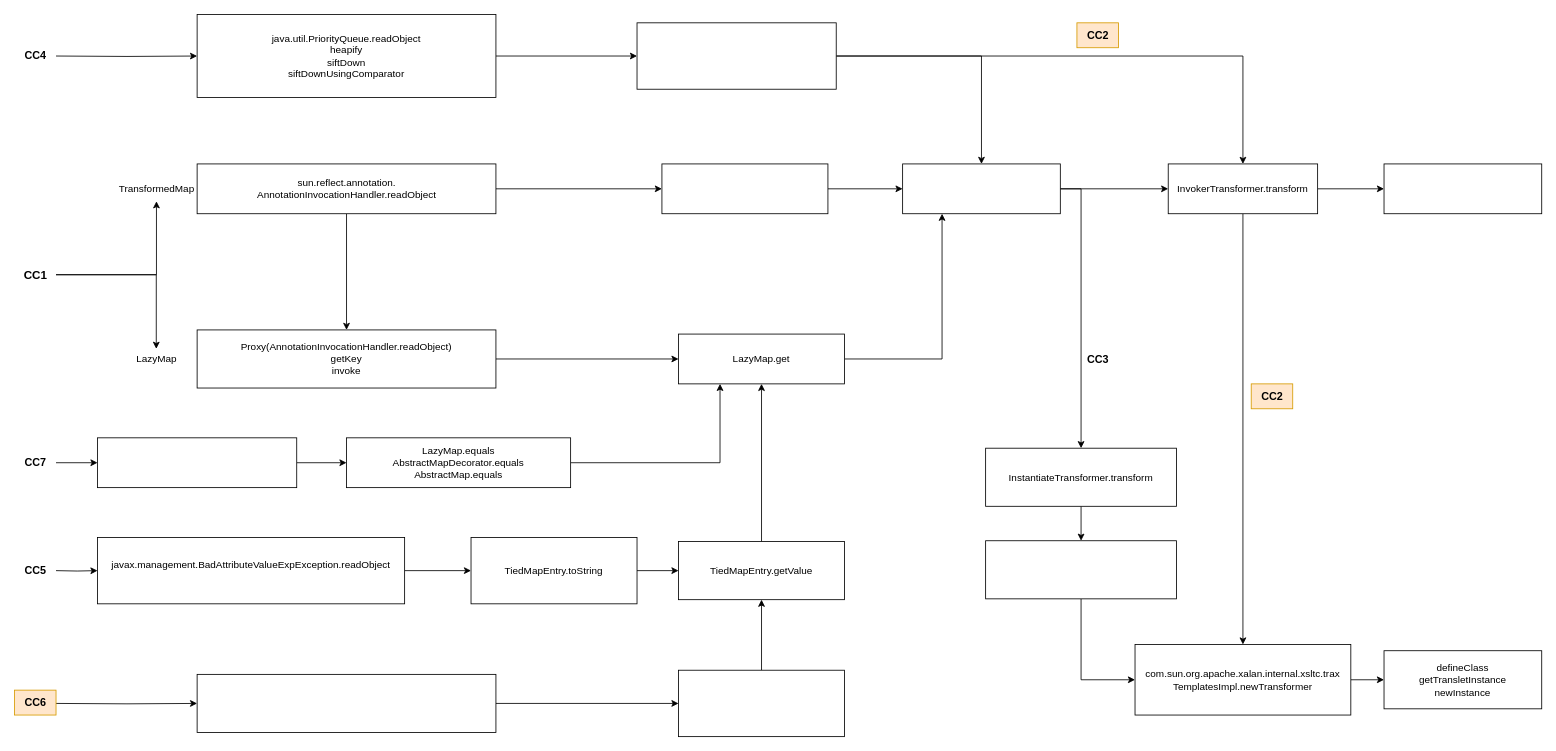
Some shapes in this 1556 by 751 pixel diagram are drawn without their labels. The centre of each missing label's shape, as x and y in pixels:
(MapEntry )setValue TransformedMap.checkSetValue: pixel 744 188
ChainedTransformer.transform: pixel 981 188
java.util.HashMap.readObject hash: pixel 346 703
java.util.Hashtable.readObject reconstitutionPut: pixel 197 462
Runtime.getRuntime.exe: pixel 1462 188
TiedMapEntry.hashCode: pixel 761 703
TransformingComparator.compare: pixel 736 55
TrAXFilter.TrAXFilter: pixel 1081 569
